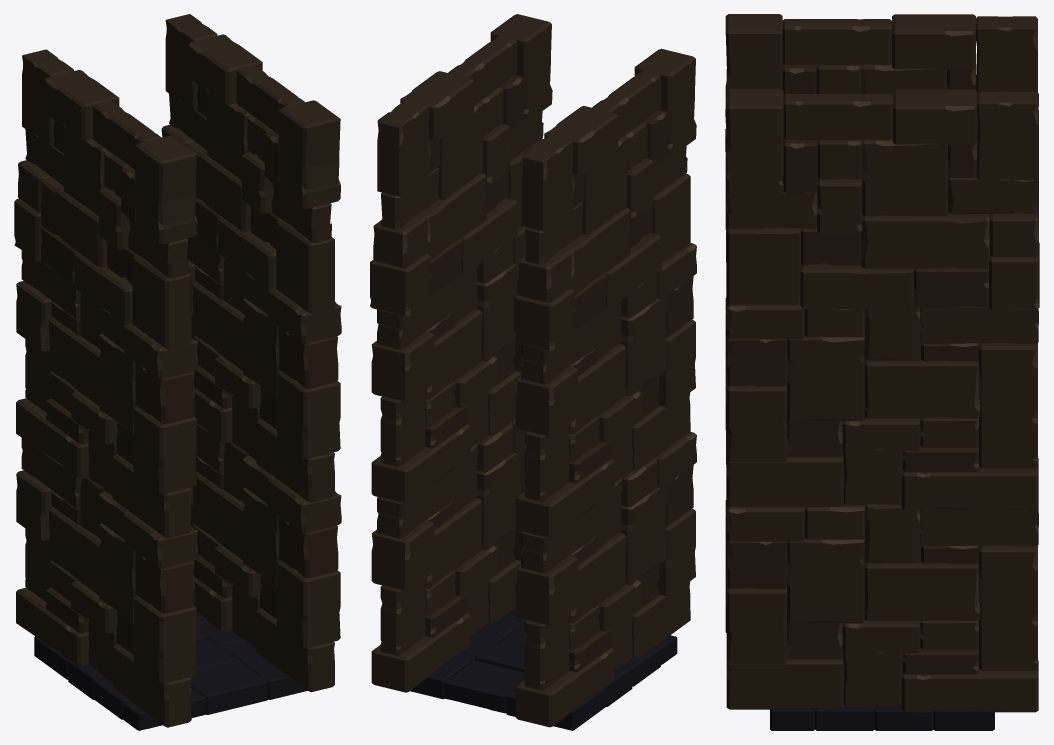
File: quat_hall.obj
3 views of the same model, side by side, from view 1: azimuth 30°, elevation 25°; view 2: azimuth 150°, elevation 25°; view 3: azimuth 270°, elevation 25° (orthographic). The views are drawn at different scales.
Parts seen in each view (by area): view 1: Wall_Modular_Cube.009_Wall_Modular_Cube.010, Wall_Modular_Cube.003, Wall_Modular_Cube.007_Wall_Modular_Cube.008, Wall_Modular_Cube.008_Wall_Modular_Cube.009, Wall_Modular_Cube.002, Wall_Modular_Cube.001, Floor_Modular_Cube.001; view 2: Wall_Modular_Cube.009_Wall_Modular_Cube.010, Wall_Modular_Cube.003, Wall_Modular_Cube.007_Wall_Modular_Cube.008, Wall_Modular_Cube.008_Wall_Modular_Cube.009, Wall_Modular_Cube.001, Wall_Modular_Cube.002, Floor_Modular_Cube.001; view 3: Wall_Modular_Cube.003, Wall_Modular_Cube.001, Wall_Modular_Cube.002, Wall_Modular_Cube.009_Wall_Modular_Cube.010, Floor_Modular_Cube.001.
Part boxes in pixels (x1=…): Wall_Modular_Cube.009_Wall_Modular_Cube.010: x1=14, y1=49, x2=197, y2=349; Wall_Modular_Cube.003: x1=161, y1=14, x2=340, y2=313; Wall_Modular_Cube.007_Wall_Modular_Cube.008: x1=16, y1=438, x2=197, y2=727; Wall_Modular_Cube.008_Wall_Modular_Cube.009: x1=16, y1=250, x2=197, y2=537; Wall_Modular_Cube.002: x1=186, y1=234, x2=341, y2=502; Wall_Modular_Cube.001: x1=190, y1=425, x2=341, y2=692; Floor_Modular_Cube.001: x1=34, y1=613, x2=307, y2=730; Wall_Modular_Cube.009_Wall_Modular_Cube.010: x1=514, y1=48, x2=696, y2=351; Wall_Modular_Cube.003: x1=370, y1=14, x2=552, y2=316; Wall_Modular_Cube.007_Wall_Modular_Cube.008: x1=515, y1=432, x2=696, y2=727; Wall_Modular_Cube.008_Wall_Modular_Cube.009: x1=515, y1=243, x2=696, y2=538; Wall_Modular_Cube.001: x1=371, y1=420, x2=526, y2=692; Wall_Modular_Cube.002: x1=371, y1=226, x2=526, y2=503; Floor_Modular_Cube.001: x1=410, y1=608, x2=677, y2=730; Wall_Modular_Cube.003: x1=726, y1=89, x2=1039, y2=309; Wall_Modular_Cube.001: x1=726, y1=504, x2=1038, y2=712; Wall_Modular_Cube.002: x1=726, y1=303, x2=1038, y2=510; Wall_Modular_Cube.009_Wall_Modular_Cube.010: x1=725, y1=14, x2=1037, y2=229; Floor_Modular_Cube.001: x1=770, y1=705, x2=994, y2=730.
Bounding box in the file's own units: 2.02 × 6.15 × 2.79.
